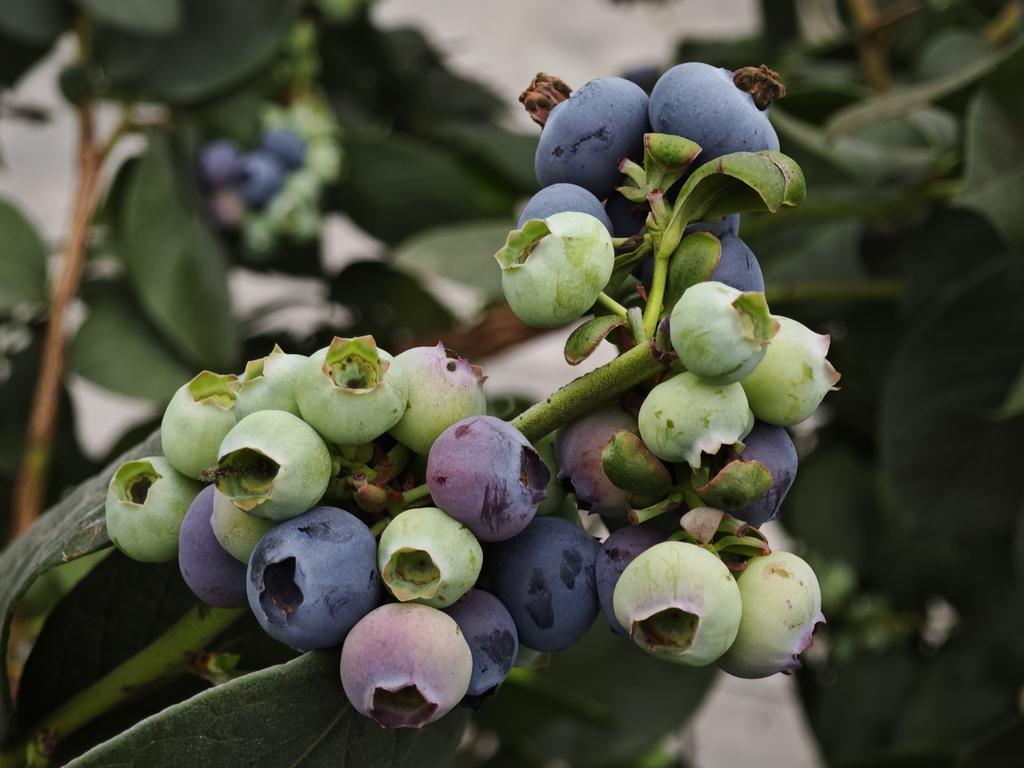RipeBlueBerry: (244, 507, 380, 653), (652, 58, 784, 164), (532, 74, 649, 186)
Semi-RipeBlueBerry: (339, 599, 475, 732), (425, 414, 548, 543)
UnripeBlueBerry: (610, 540, 745, 668), (499, 208, 618, 327), (210, 408, 333, 522), (726, 552, 825, 684), (638, 372, 755, 465), (670, 279, 770, 386)
